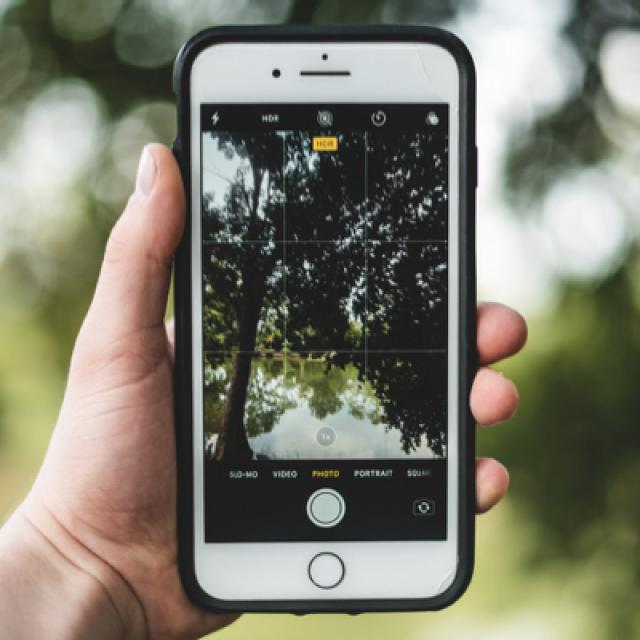cellphone: (169, 23, 476, 614)
